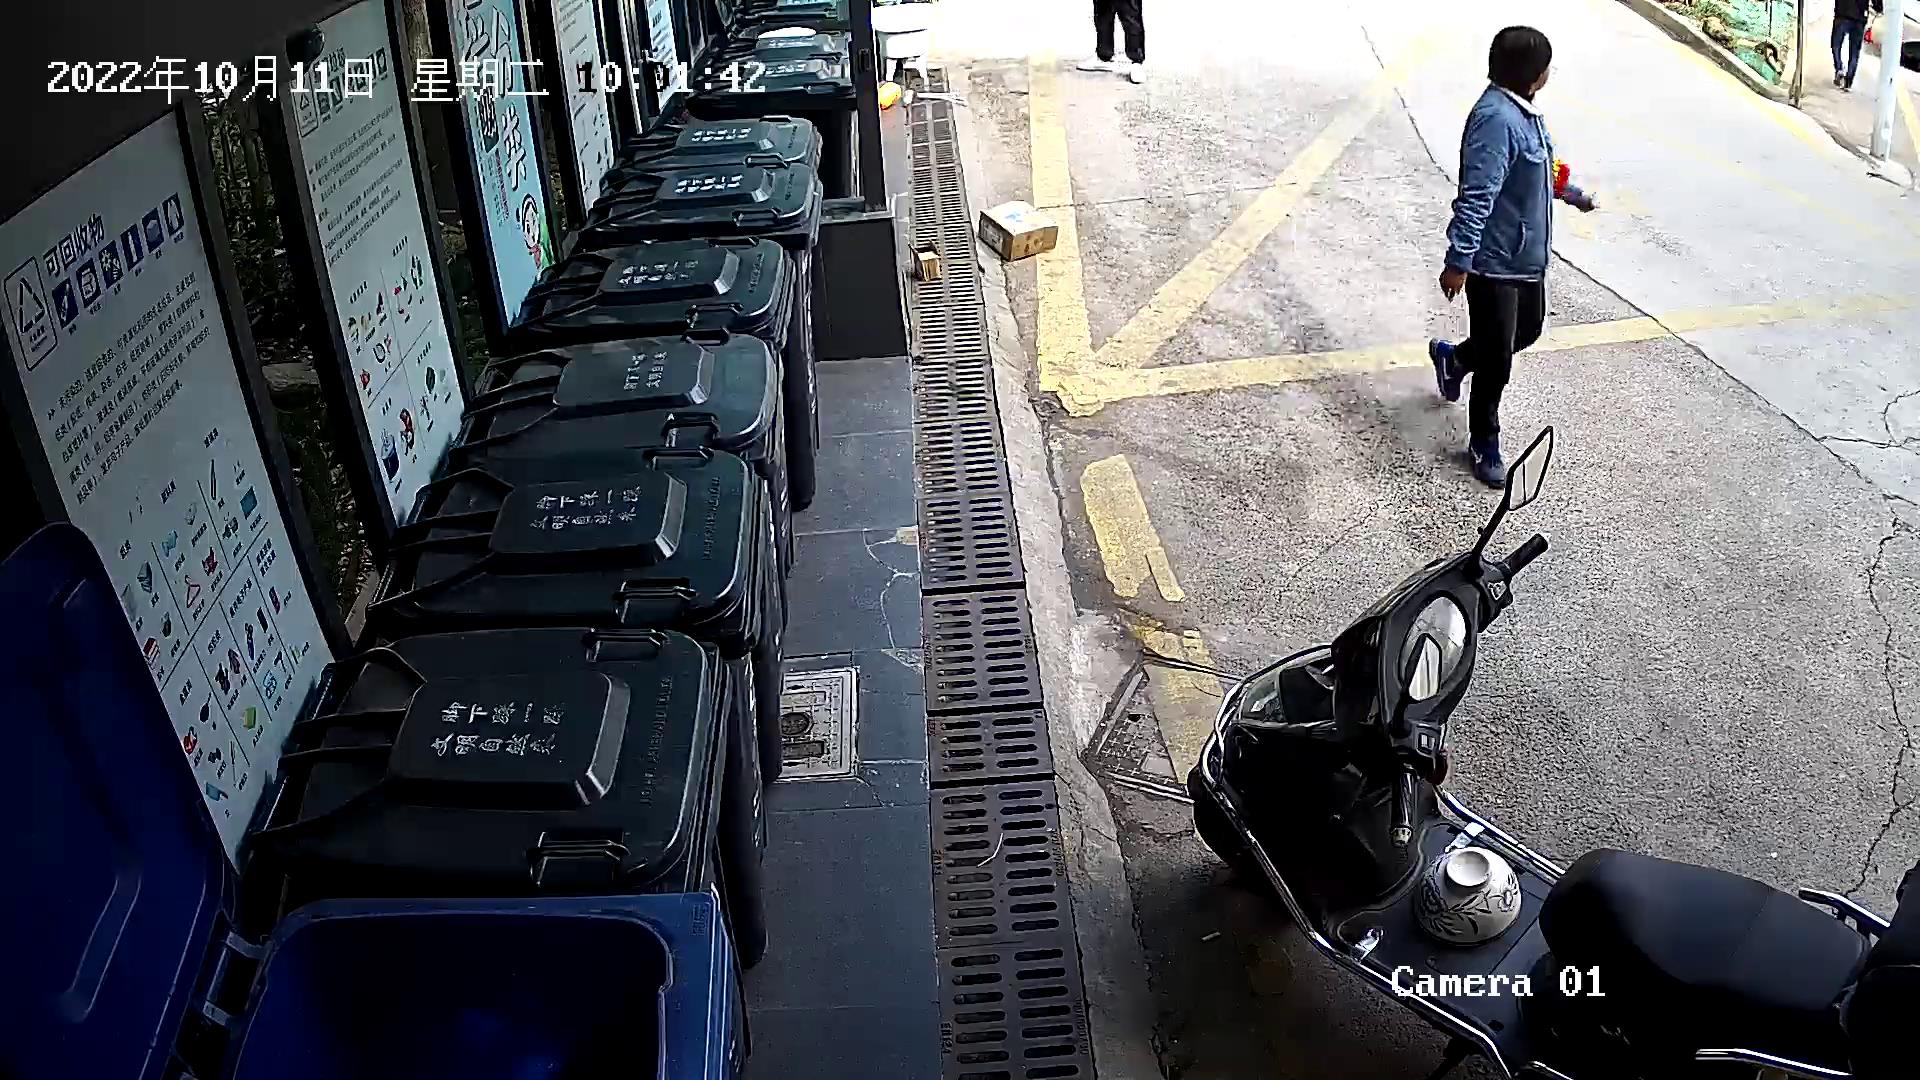worker: (1425, 17, 1611, 497)
zhizhipin: (974, 196, 1064, 268), (907, 234, 948, 286)
